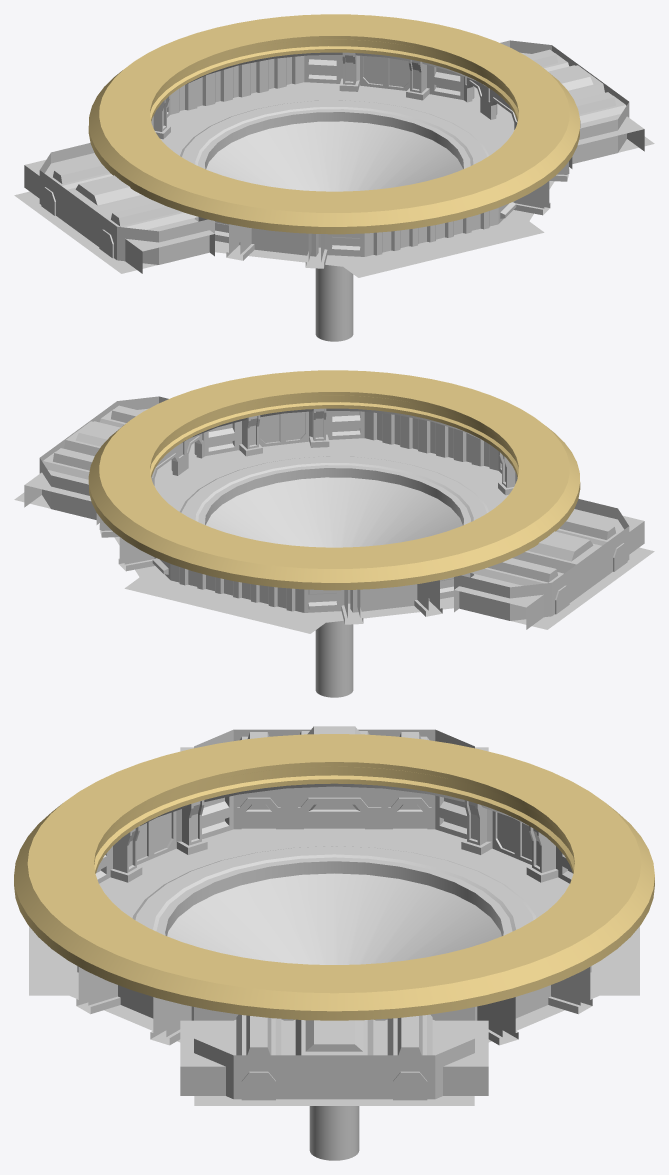
Rendered from Gunnery Deck Blockout.fbx.
The picture shows the model from 3 angles, top to bottom: view 1: azimuth 30°, elevation 25°; view 2: azimuth 150°, elevation 25°; view 3: azimuth 270°, elevation 25°; orthographic projection. The views are drawn at different scales.
Visible parts, largest first — view 1: Swivel Hardpoint, Gunnery Funnel, Gunnery Floor, Satelite Room Walls, Satelite Room Roof, Gunnery Reinforcement, Gunnery Pillar, Gunnery Funnel Topper, Gunnery Blast Doors, Roof Base; view 2: Swivel Hardpoint, Gunnery Funnel, Gunnery Floor, Satelite Room Walls, Satelite Room Roof, Gunnery Reinforcement, Gunnery Pillar, Gunnery Funnel Topper, Gunnery Blast Doors, Roof Base; view 3: Swivel Hardpoint, Gunnery Funnel, Satelite Room Walls, Gunnery Floor, Satelite Room Roof, Gunnery Pillar, Gunnery Funnel Topper, Gunnery Blast Doors, Interor Door L, Roof Base, Interor Door S, Interor Door S.2 (+1 smaller).
Part boxes in pixels (x1,y1,x2,y2): Swivel Hardpoint: (88,14,580,234); Gunnery Funnel: (174,97,494,341); Gunnery Floor: (14,82,654,277); Satelite Room Walls: (39,40,629,264); Satelite Room Roof: (24,49,644,273); Gunnery Reinforcement: (167,55,516,256); Gunnery Pillar: (153,52,569,268); Gunnery Funnel Topper: (180,100,489,165); Gunnery Blast Doors: (151,55,409,256); Roof Base: (186,52,486,86); Swivel Hardpoint: (88,370,580,590); Gunnery Funnel: (174,453,494,697); Gunnery Floor: (14,438,654,633); Satelite Room Walls: (39,396,629,620); Satelite Room Roof: (24,405,644,629); Gunnery Reinforcement: (152,411,501,612); Gunnery Pillar: (99,408,515,624); Gunnery Funnel Topper: (179,456,488,521); Gunnery Blast Doors: (259,411,517,612); Roof Base: (182,408,482,442); Swivel Hardpoint: (14,734,654,1020); Gunnery Funnel: (125,842,543,1160); Satelite Room Walls: (191,729,477,1100); Gunnery Floor: (29,828,639,1105); Satelite Room Roof: (180,726,488,1095); Gunnery Pillar: (76,800,592,1045); Gunnery Funnel Topper: (132,846,536,931); Gunnery Blast Doors: (118,809,550,1018); Interor Door L: (304,801,364,828); Roof Base: (140,783,528,825); Interor Door S: (241,801,275,828); Interor Door S.2: (393,801,427,828).
Bounding box in the file's own units: 100 × 39.49 × 80.
